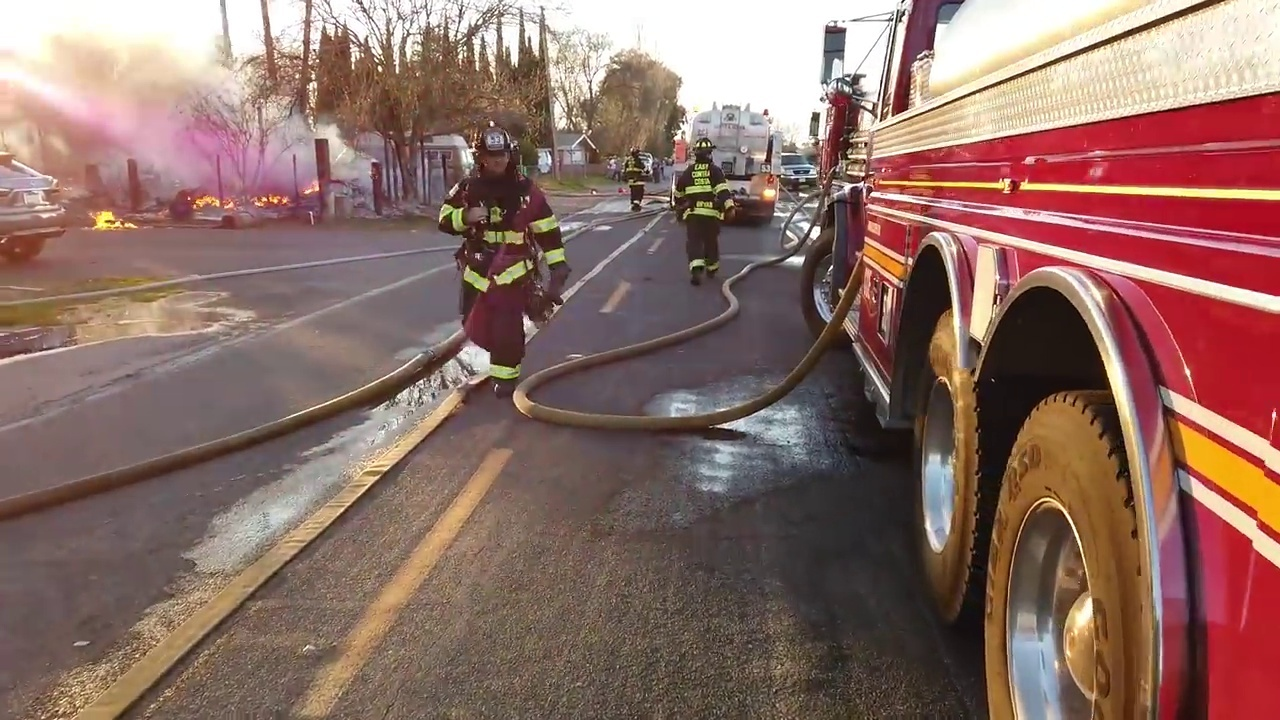fire: (83, 209, 138, 230), (255, 190, 289, 202), (302, 182, 316, 192)
smoke: (1, 31, 375, 181)
